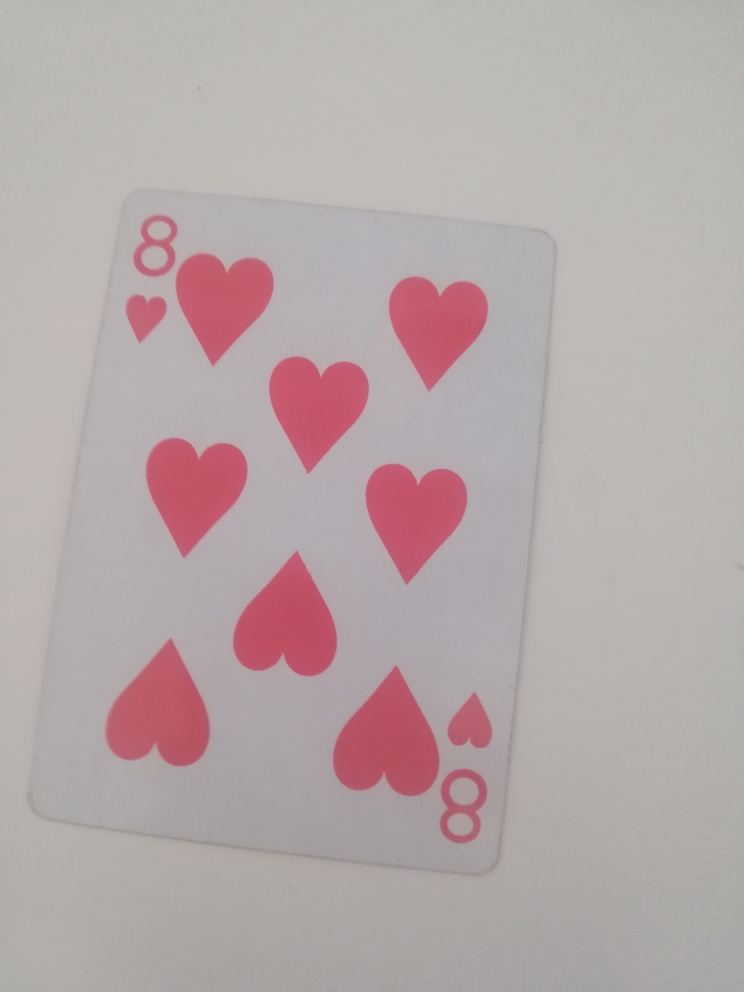8H: (111, 207, 184, 350)
